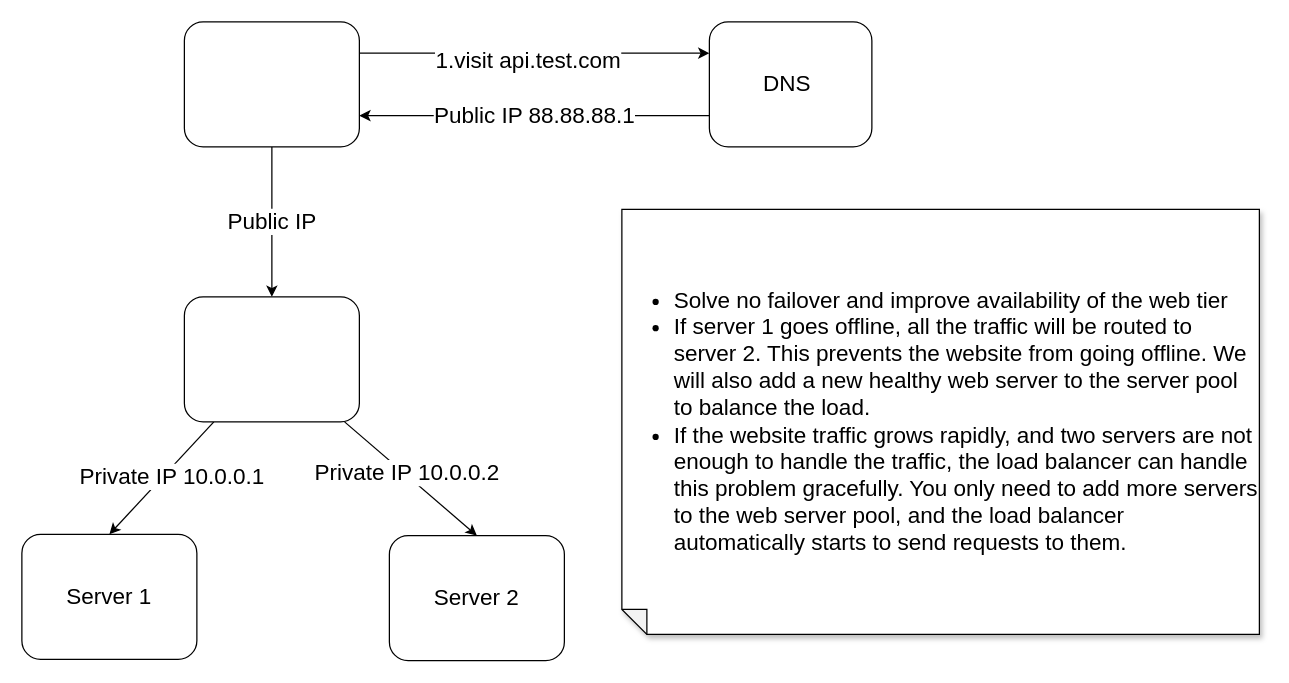
The diagram is 1289 pixels wide and 683 high, and some of its shapes have lost their labels. Here are the shapes that lost their labels. From the top down, the centre of each, then its label:
the point at 271,84: User visit a website
the point at 271,359: Load balancer
